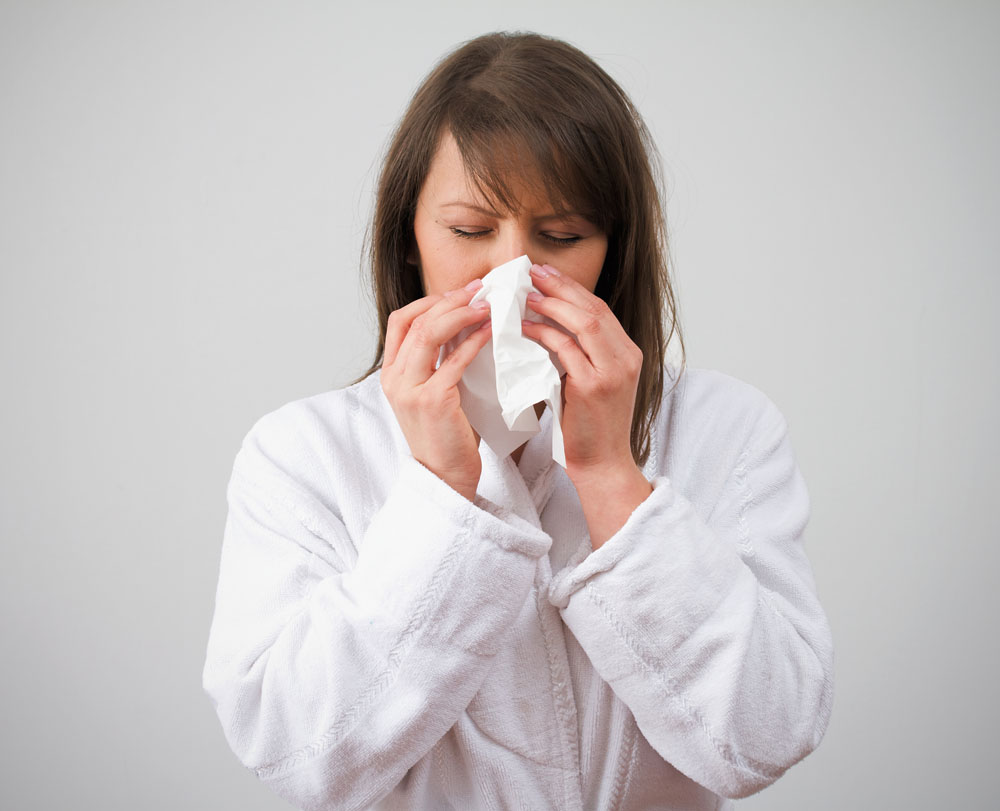face: (419, 128, 611, 368)
face_mask: (421, 130, 613, 370)
